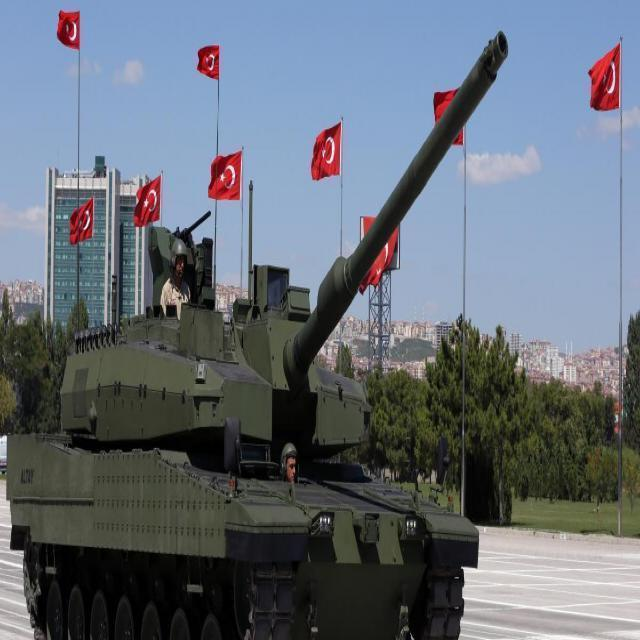Tanks: (14, 25, 507, 640)
